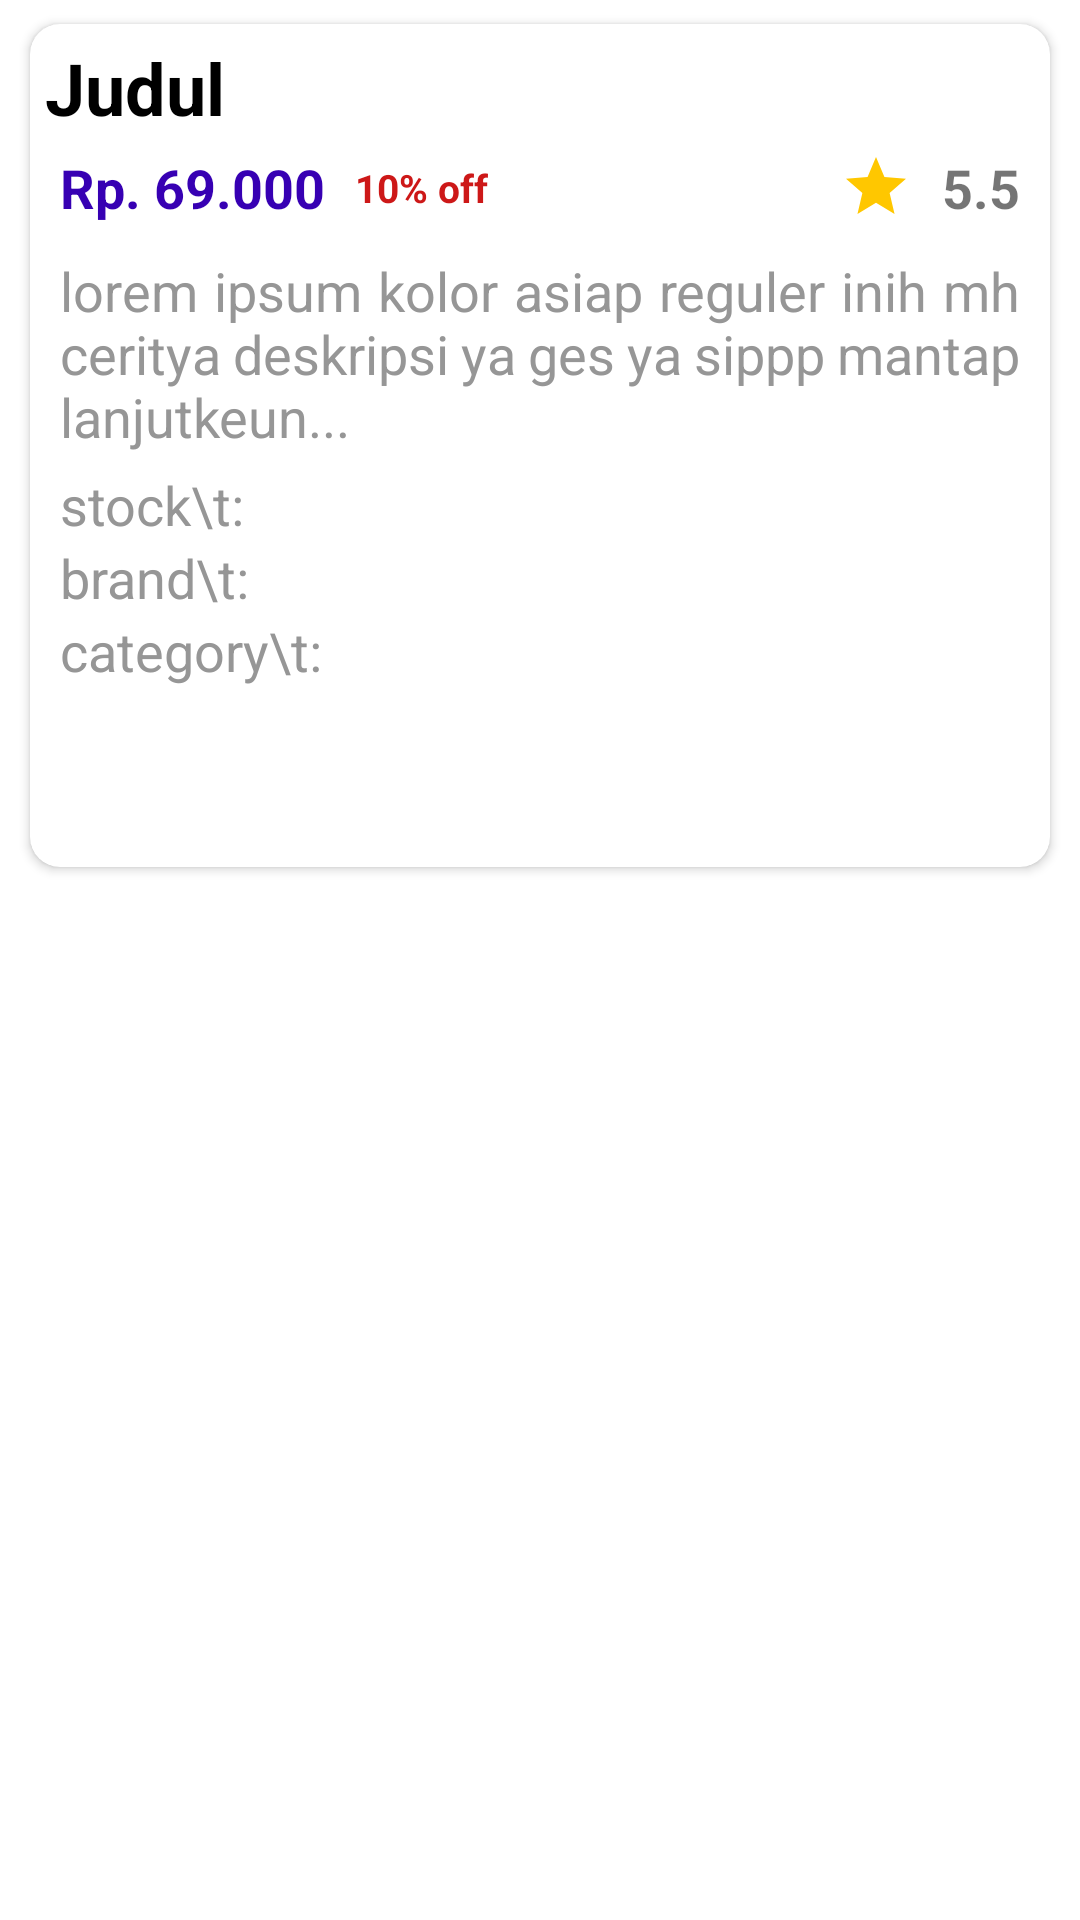

Where to tap for icons on this 1080×1920 app screen, as point (x, y):
star: point (876, 185)
